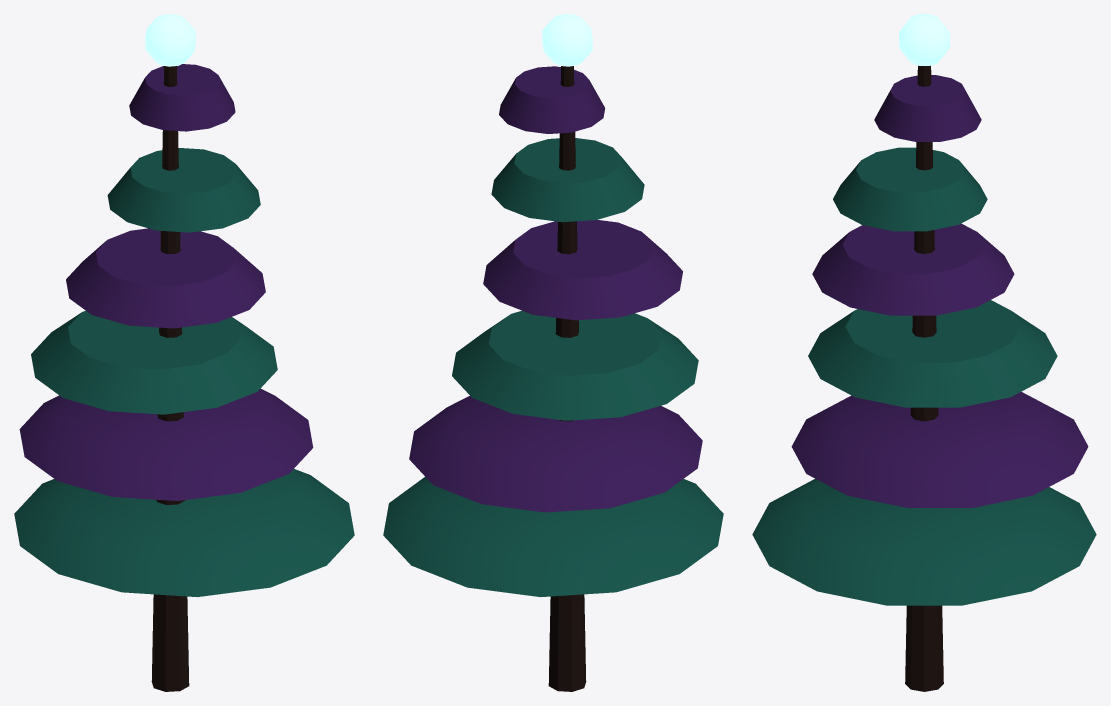
The model's file is tree_spiral.glb.
The picture shows the model from 3 angles, left to right: view 1: azimuth 30°, elevation 25°; view 2: azimuth 150°, elevation 25°; view 3: azimuth 270°, elevation 25°; orthographic projection.
Visible parts, largest first — view 1: tree_spiral; view 2: tree_spiral; view 3: tree_spiral.
Part boxes in pixels (x1=…): tree_spiral: x1=14, y1=14, x2=354, y2=691; tree_spiral: x1=383, y1=14, x2=723, y2=691; tree_spiral: x1=752, y1=14, x2=1096, y2=691.
Bounding box in the file's own units: 3.12 × 6.85 × 3.2.
